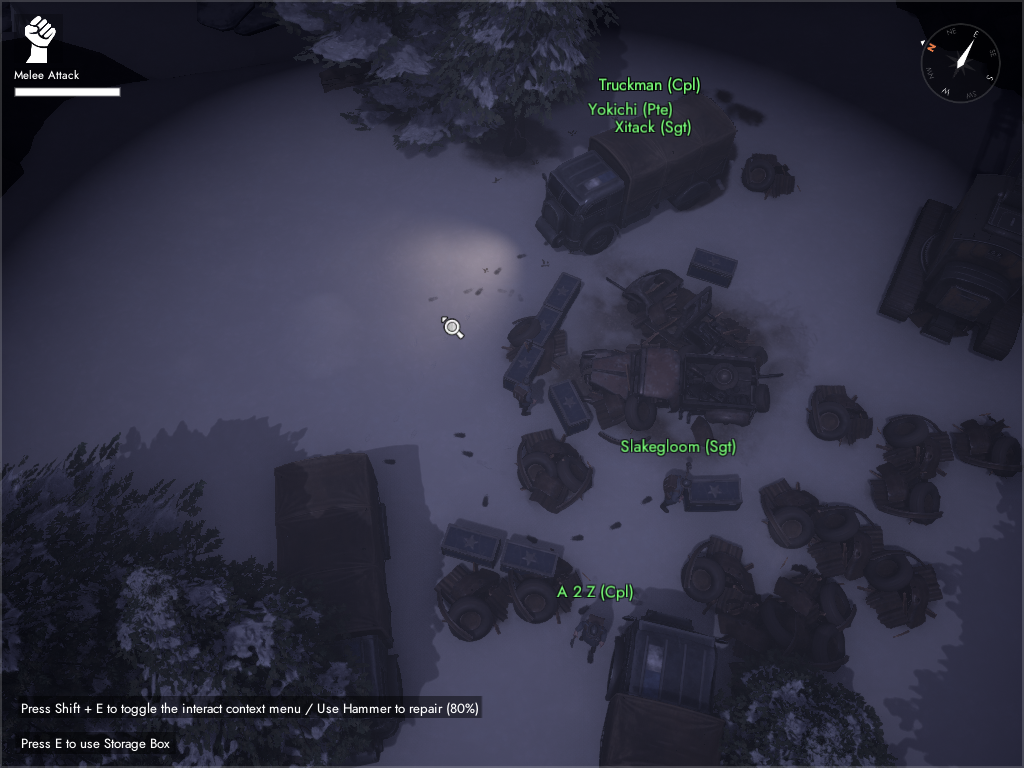crane: (877, 107, 1023, 363)
player: (570, 614, 606, 664), (659, 462, 692, 514), (512, 377, 537, 417)
scrap: (768, 566, 855, 664), (860, 543, 946, 638), (514, 427, 599, 514), (863, 454, 952, 530), (429, 564, 513, 643), (878, 410, 954, 490), (813, 498, 888, 579), (675, 534, 760, 603), (944, 410, 1021, 485), (754, 478, 827, 549), (804, 382, 876, 453), (506, 570, 582, 629), (737, 148, 800, 207)
scrapyard: (573, 268, 786, 451)
storage_box: (437, 518, 505, 572), (498, 537, 563, 586), (544, 376, 593, 437), (680, 473, 748, 514), (498, 336, 546, 390), (686, 245, 740, 291), (539, 268, 586, 319), (520, 303, 566, 354)
toggle_storage_box: (17, 734, 174, 755)
truck: (274, 453, 405, 741), (535, 88, 737, 255), (596, 610, 727, 768)
